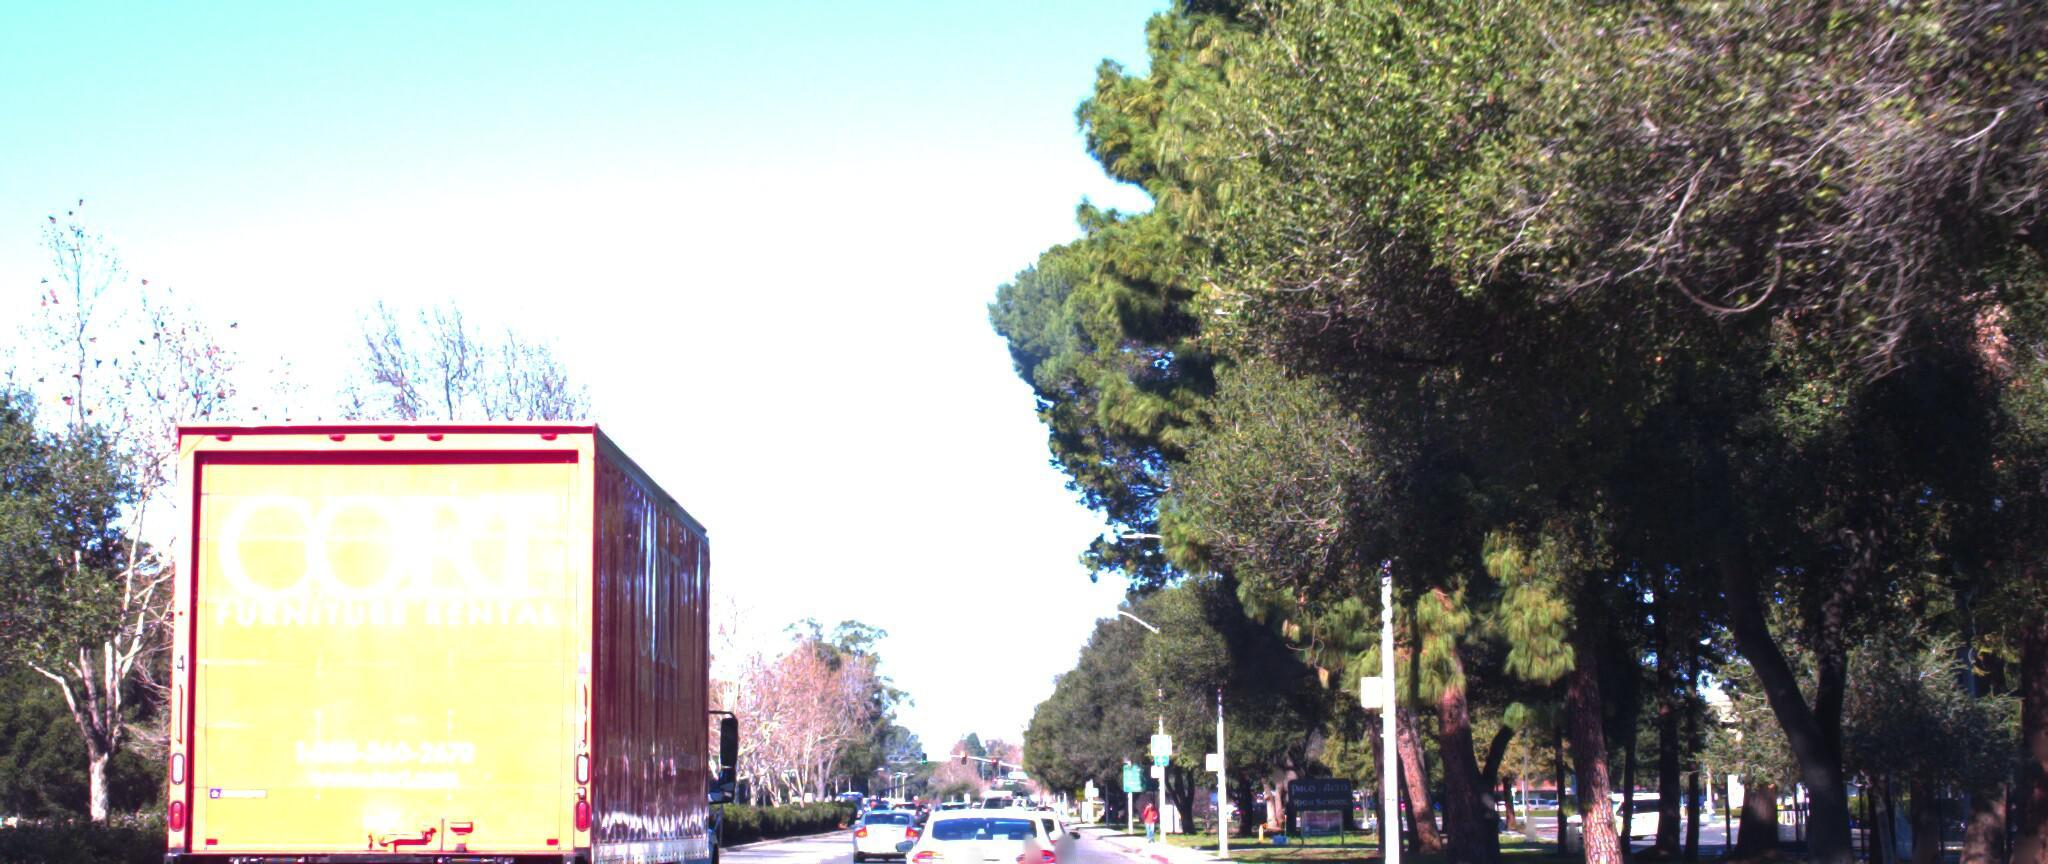car: (892, 783, 1078, 864), (946, 780, 1064, 864), (846, 780, 929, 839)
truck: (123, 362, 785, 864)
